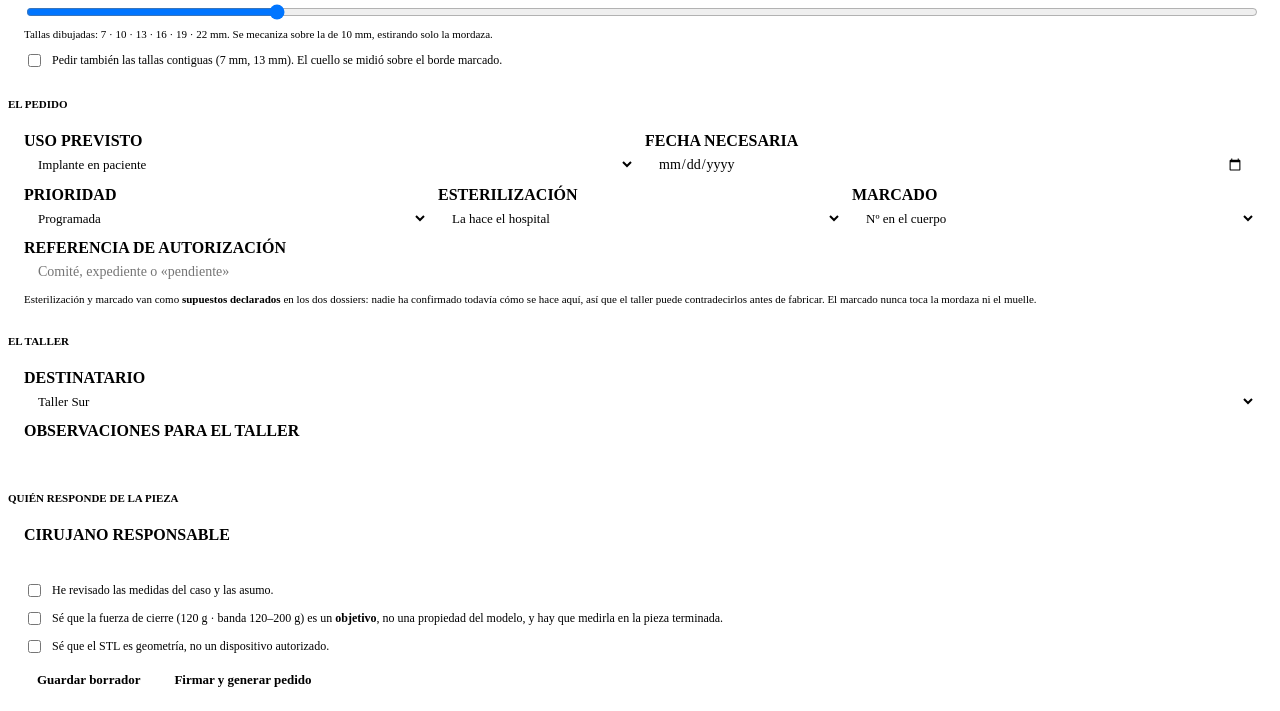
Test: what it refuses to send quietly › shows every problem the backend returned, not just the first
(page scrolled)
Click the button "Guardar borrador" at (89, 680), box [24,670,153,689]
(page scrolled)
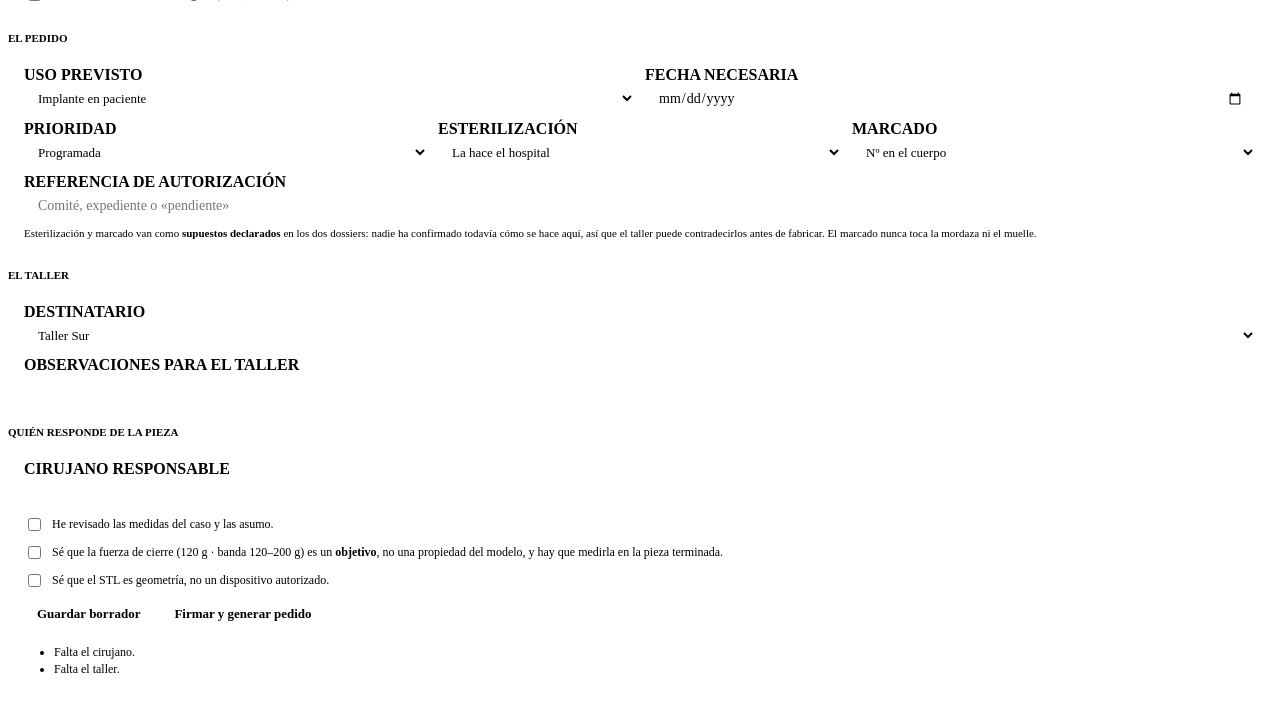
Now the list item "Falta el cirujano." is shown, box [54,645,135,659]
Now the list item "Falta el taller." is shown, box [54,662,120,676]
